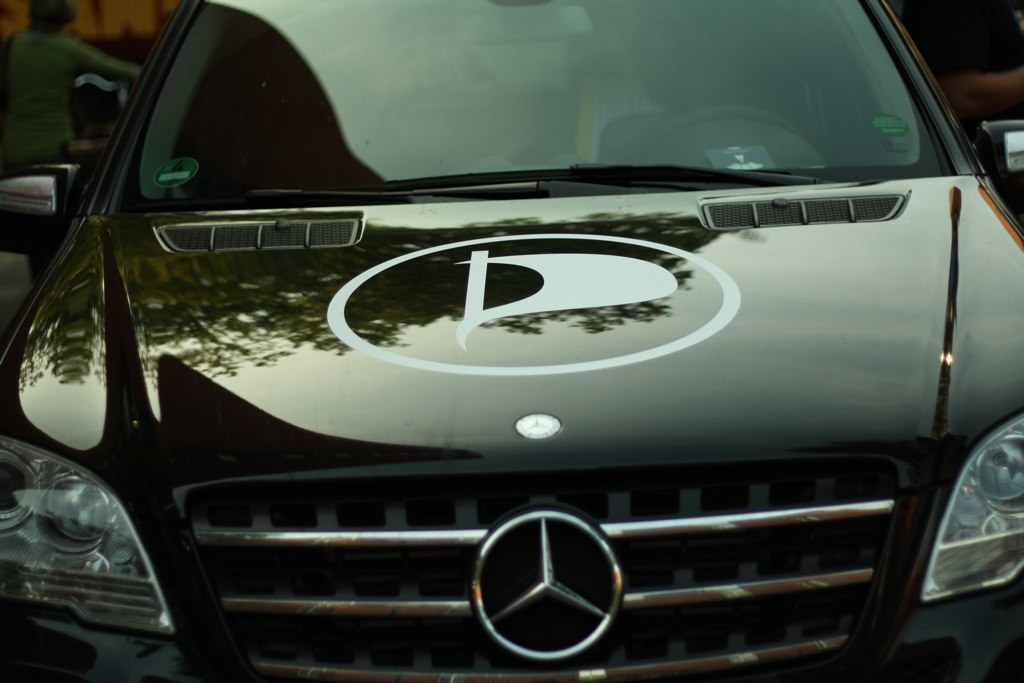Person: (0, 0, 141, 282)
